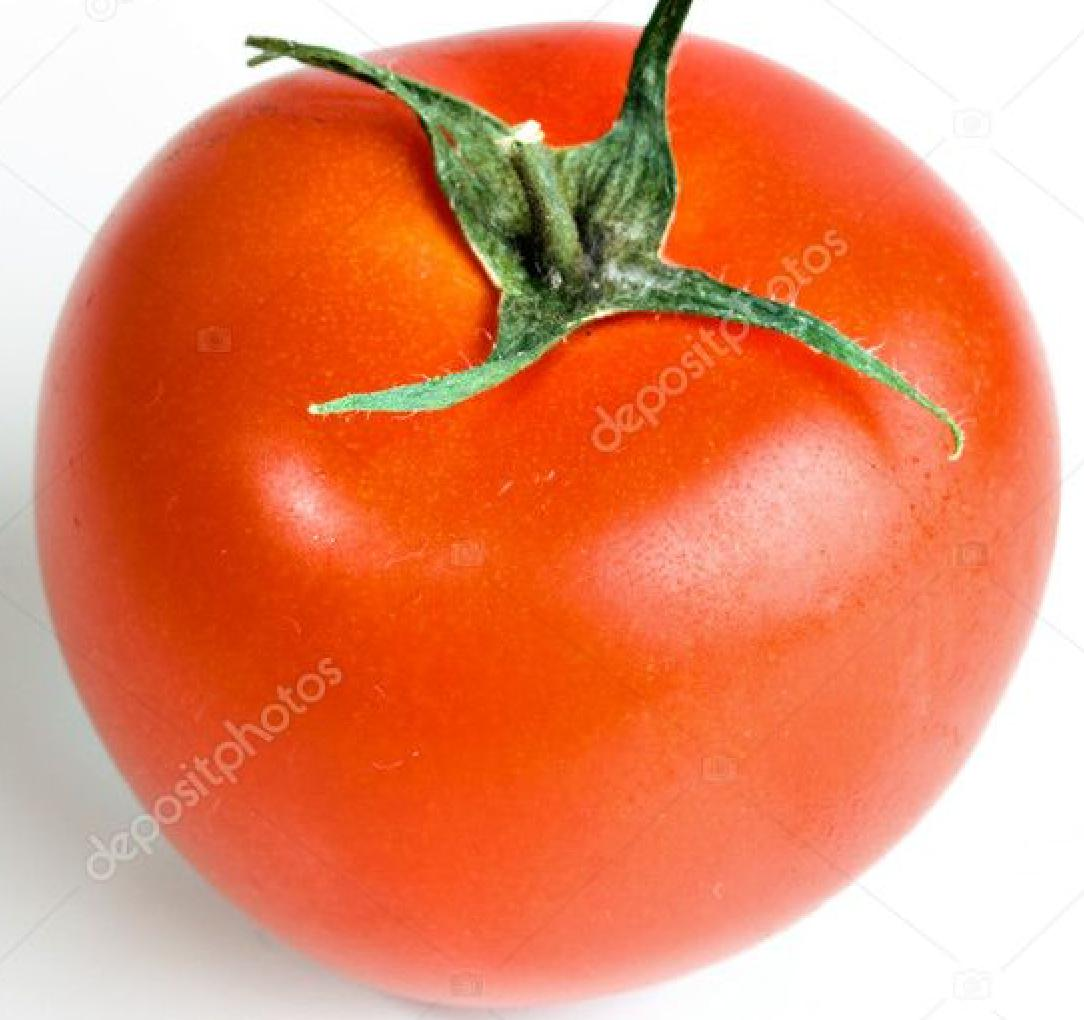tomato: (43, 20, 1061, 1003)
